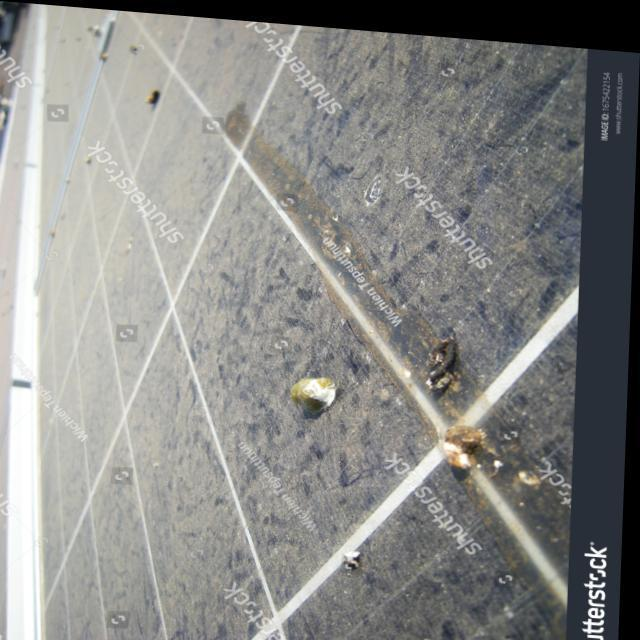Anomaly Solar Panel: (43, 2, 583, 640)
Surface Contaminant: (43, 6, 589, 640), (279, 295, 523, 514), (138, 87, 171, 113)
